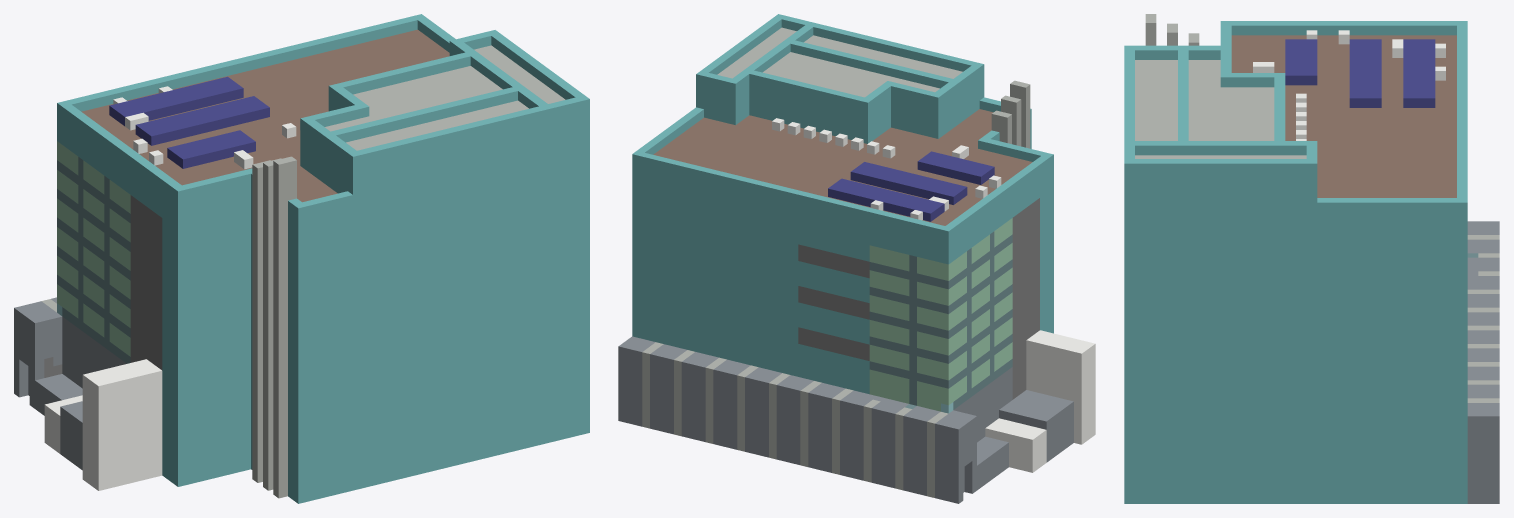
File: nishida_4.fbx
3 views of the same model, side by side, from view 1: azimuth 30°, elevation 25°; view 2: azimuth 150°, elevation 25°; view 3: azimuth 270°, elevation 25° (orthographic). The views are drawn at different scales.
Visible parts, largest first — view 1: palette; view 2: palette; view 3: palette.
Part boxes in pixels (x1,y1,x2,y2): palette: (14,14,589,503); palette: (618,14,1095,503); palette: (1124,14,1499,503).
Bounding box in the file's own units: 47 × 35 × 35.
1 material, 1 textured.
